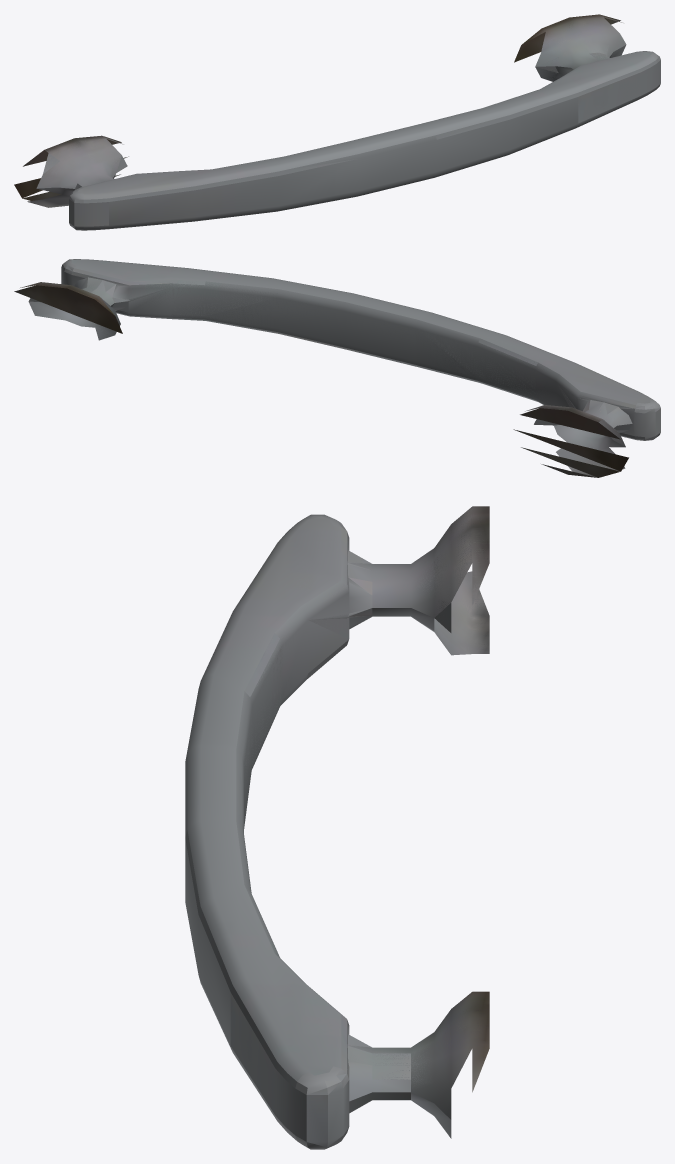
The model's file is link_2__handle-129.glb.
3 views of the same model, one above another, from view 1: azimuth 30°, elevation 25°; view 2: azimuth 150°, elevation 25°; view 3: azimuth 270°, elevation 25° (orthographic). The views are drawn at different scales.
Visible parts, largest first — view 1: world; view 2: world; view 3: world.
Boxes of the visible parts, x1,y1,x2,y2 form: world: (14,14,660,230); world: (14,259,660,477); world: (185,506,489,1149).
Bounding box in the file's own units: 0.0975 × 0.00972 × 0.0212.
Materials: 1 (1 with a texture image).
